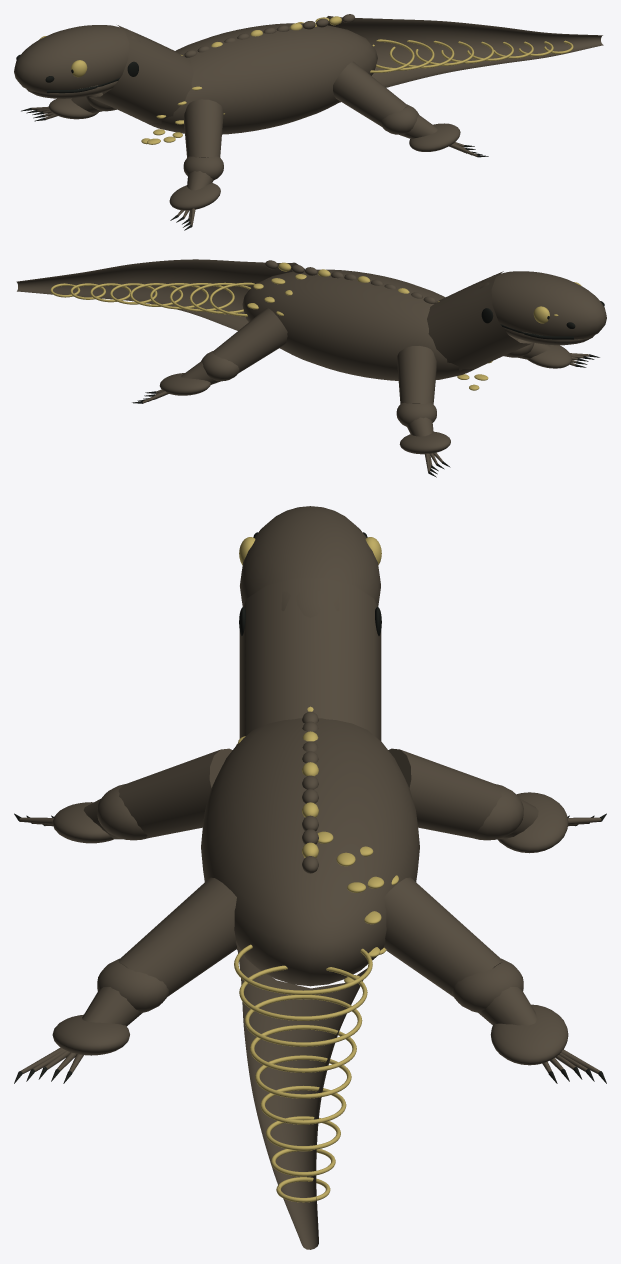
The model's file is clouded-monitor.glb.
The picture shows the model from 3 angles, top to bottom: view 1: azimuth 30°, elevation 25°; view 2: azimuth 150°, elevation 25°; view 3: azimuth 270°, elevation 25°; orthographic projection. The views are drawn at different scales.
Parts seen in each view (by area): view 1: torso/long-torso, tail/continuous-tapered-tail, head/short-head, neck/raised-neck, splayed-limb-system/upper-limb-4, splayed-limb-system/upper-limb-2, splayed-limb-system/palm-2, splayed-limb-system/palm-4, splayed-limb-system/elbow-knee-4, splayed-limb-system/elbow-knee-2, splayed-limb-system/palm-1, head/lower-jaw (+3 smaller); view 2: torso/long-torso, tail/continuous-tapered-tail, head/short-head, neck/raised-neck, splayed-limb-system/upper-limb-3, splayed-limb-system/upper-limb-1, splayed-limb-system/palm-1, splayed-limb-system/palm-3, splayed-limb-system/elbow-knee-3, splayed-limb-system/elbow-knee-1, splayed-limb-system/palm-2, head/lower-jaw (+6 smaller); view 3: torso/long-torso, neck/raised-neck, tail/continuous-tapered-tail, head/short-head, splayed-limb-system/upper-limb-4, splayed-limb-system/upper-limb-3, splayed-limb-system/upper-limb-1, splayed-limb-system/upper-limb-2, splayed-limb-system/palm-3, splayed-limb-system/palm-1, splayed-limb-system/palm-4, splayed-limb-system/elbow-knee-3 (+11 smaller).
Part boxes in pixels (x1,y1,x2,y2): torso/long-torso: [147, 23, 377, 134]; tail/continuous-tapered-tail: [326, 16, 603, 102]; head/short-head: [14, 25, 140, 92]; neck/raised-neck: [89, 25, 193, 126]; splayed-limb-system/upper-limb-4: [333, 61, 407, 126]; splayed-limb-system/upper-limb-2: [184, 99, 223, 157]; splayed-limb-system/palm-2: [169, 183, 220, 210]; splayed-limb-system/palm-4: [409, 123, 460, 151]; splayed-limb-system/elbow-knee-4: [381, 104, 418, 134]; splayed-limb-system/elbow-knee-2: [183, 156, 223, 180]; splayed-limb-system/palm-1: [48, 98, 98, 119]; head/lower-jaw: [26, 81, 117, 98]; torso/long-torso: [242, 269, 473, 380]; tail/continuous-tapered-tail: [16, 259, 304, 330]; head/short-head: [480, 271, 606, 339]; neck/raised-neck: [427, 271, 531, 373]; splayed-limb-system/upper-limb-3: [213, 308, 287, 372]; splayed-limb-system/upper-limb-1: [397, 346, 436, 404]; splayed-limb-system/palm-1: [399, 431, 450, 454]; splayed-limb-system/palm-3: [159, 373, 210, 395]; splayed-limb-system/elbow-knee-3: [201, 351, 239, 381]; splayed-limb-system/elbow-knee-1: [396, 402, 436, 426]; splayed-limb-system/palm-2: [528, 345, 572, 368]; head/lower-jaw: [503, 327, 594, 345]; torso/long-torso: [201, 718, 419, 986]; neck/raised-neck: [239, 578, 381, 741]; tail/continuous-tapered-tail: [236, 941, 367, 1249]; head/short-head: [240, 506, 380, 617]; splayed-limb-system/upper-limb-4: [118, 877, 236, 996]; splayed-limb-system/upper-limb-3: [384, 877, 502, 996]; splayed-limb-system/upper-limb-1: [388, 748, 502, 837]; splayed-limb-system/upper-limb-2: [118, 748, 232, 837]; splayed-limb-system/palm-3: [490, 1004, 568, 1065]; splayed-limb-system/palm-1: [497, 792, 568, 853]; splayed-limb-system/palm-4: [52, 1014, 129, 1055]; splayed-limb-system/elbow-knee-3: [452, 958, 523, 1012].
Bounding box in the file's own units: 3.49 × 0.823 × 1.68.
